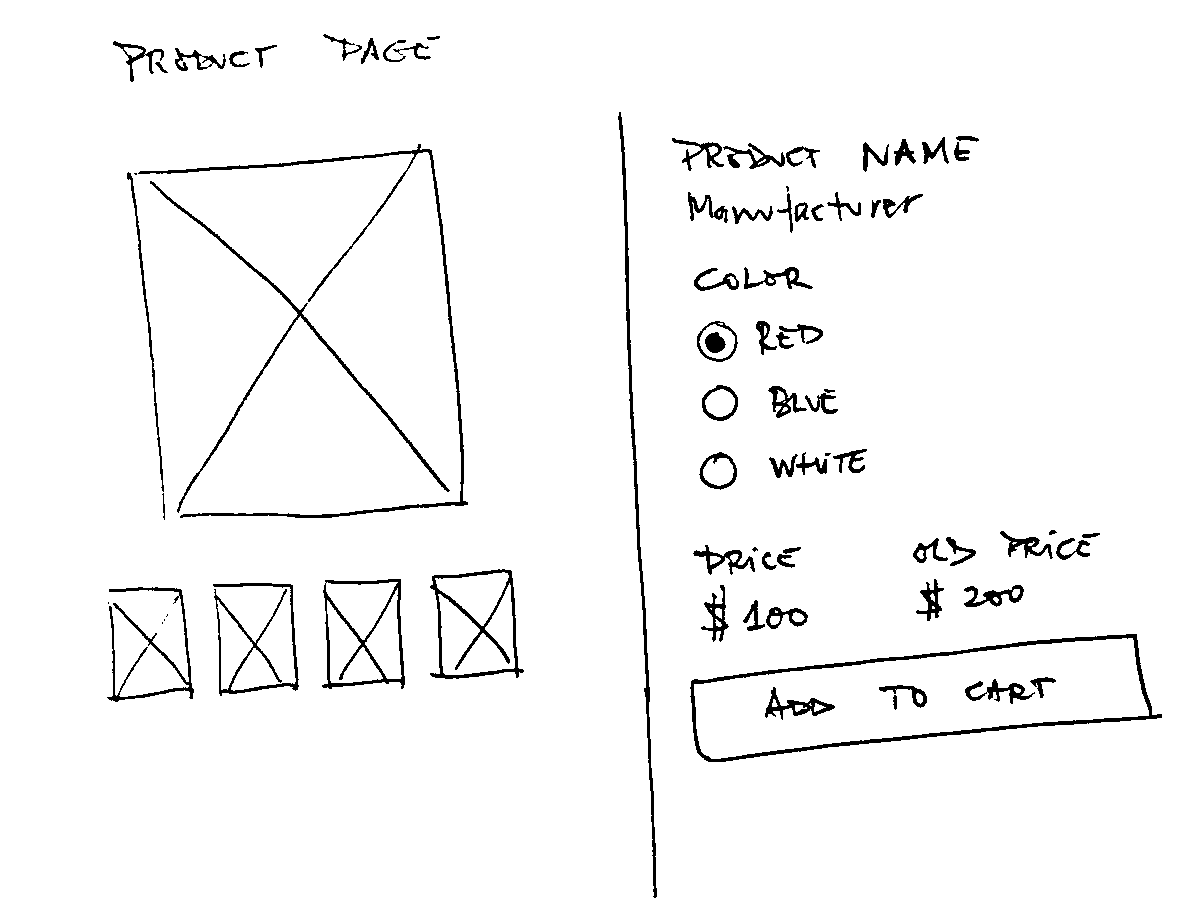Button: (685, 631, 1163, 766)
Image: (121, 145, 471, 523), (104, 581, 198, 706), (430, 566, 524, 684), (210, 579, 302, 697), (319, 575, 411, 692)
Radio Button: (696, 444, 874, 491), (698, 379, 846, 425), (692, 314, 829, 362)
